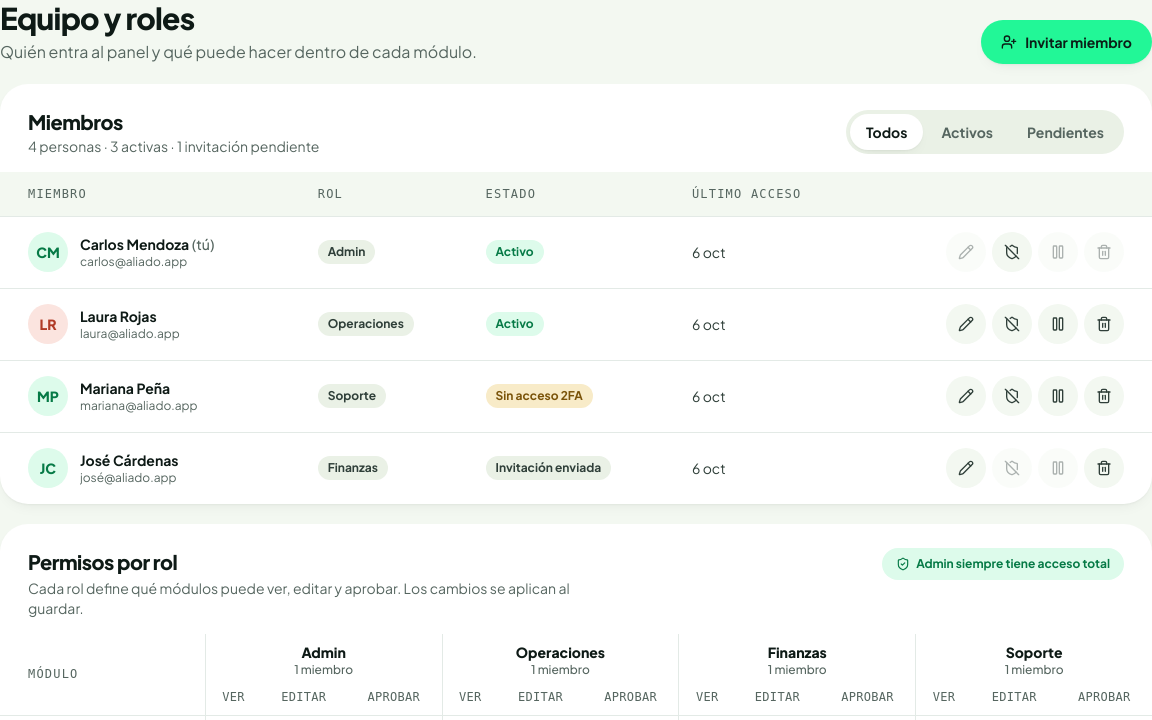
B15 · pantalla › invitar valida el correo y envia la invitacion; en desarrollo muestra el codigo
The width and height of the screenshot is (1152, 720).
Click the button "Invitar miembro" at (1067, 42), box [981,20,1151,64]
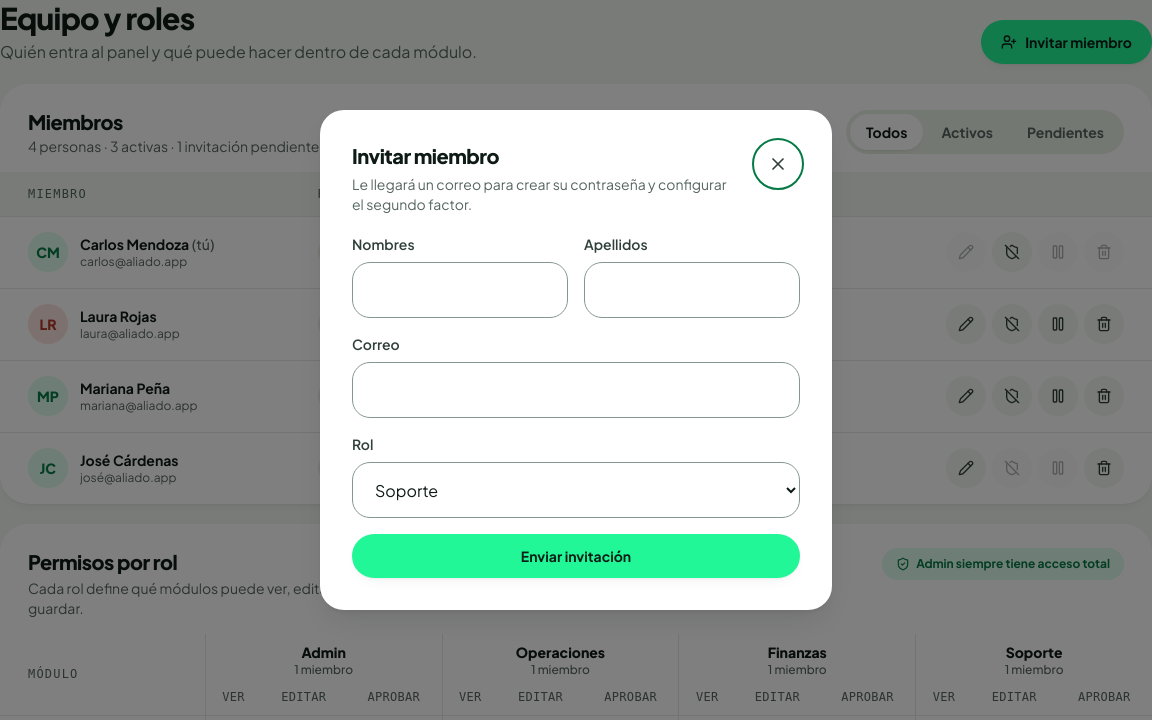
Type "Ana" into the field labelled "Nombres" at (460, 290), box [353,263,567,317]
Type "Pérez" into the field labelled "Apellidos" at (692, 290), box [585,263,799,317]
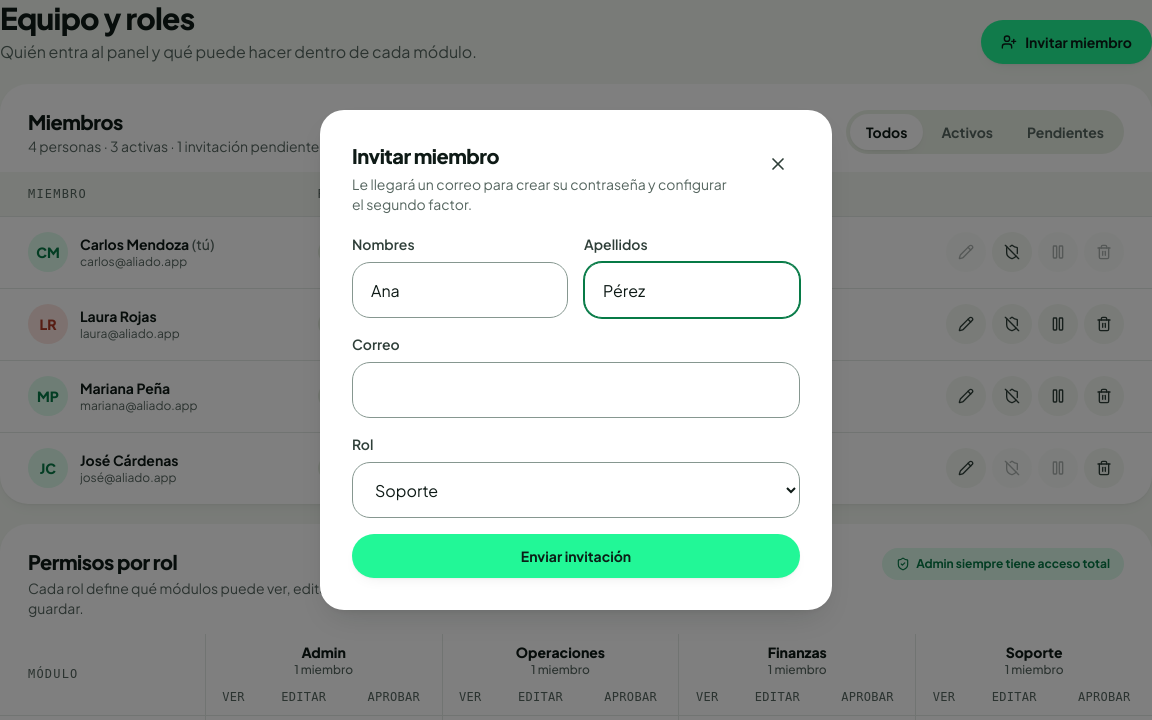
Type "no-es-correo" into the field labelled "Correo" at (576, 390), box [353,363,799,417]
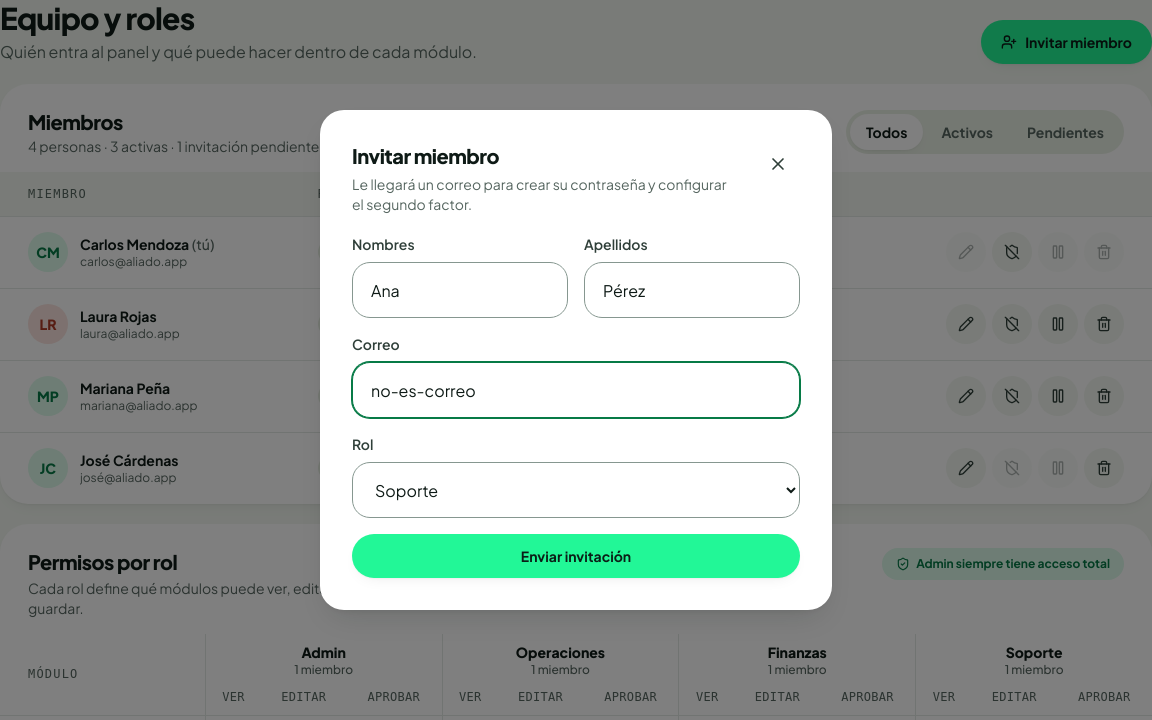
Click the button "Enviar invitación" at (576, 556), box [352,534,800,578]
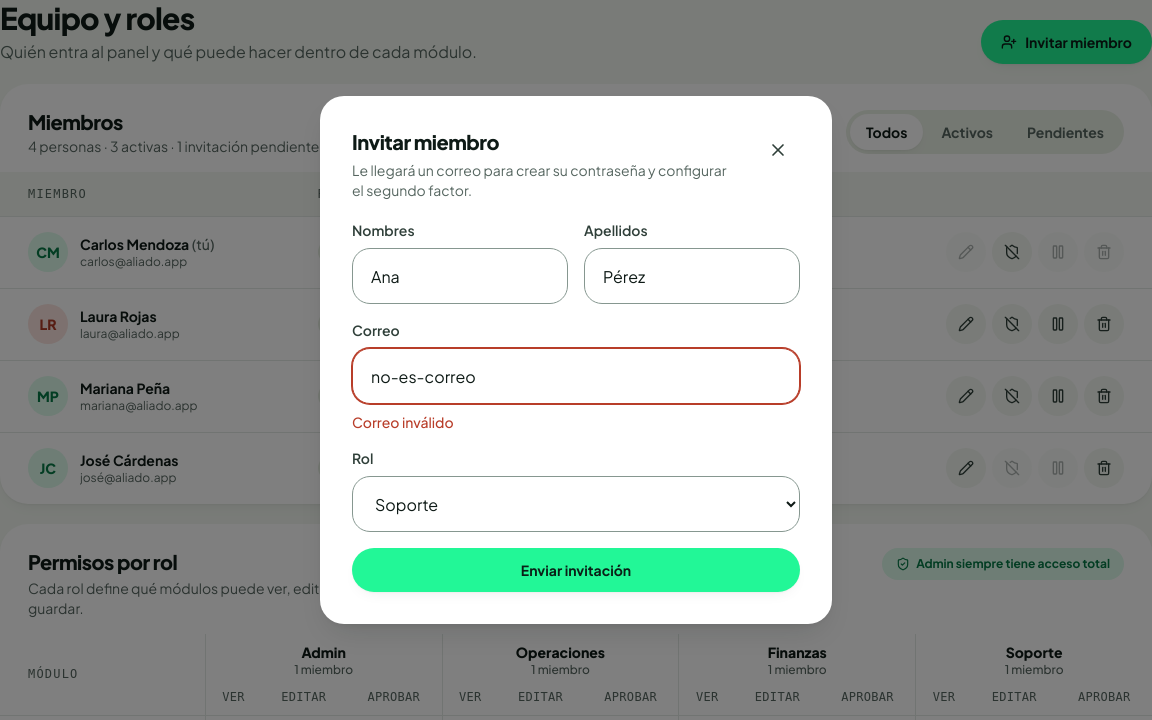
Expected: the text "Correo inválido" is shown, [352,413,454,431]
Replace the text in the field labelled "Correo" with "ana.perez@aliado.app" at (576, 376), box [353,349,799,403]
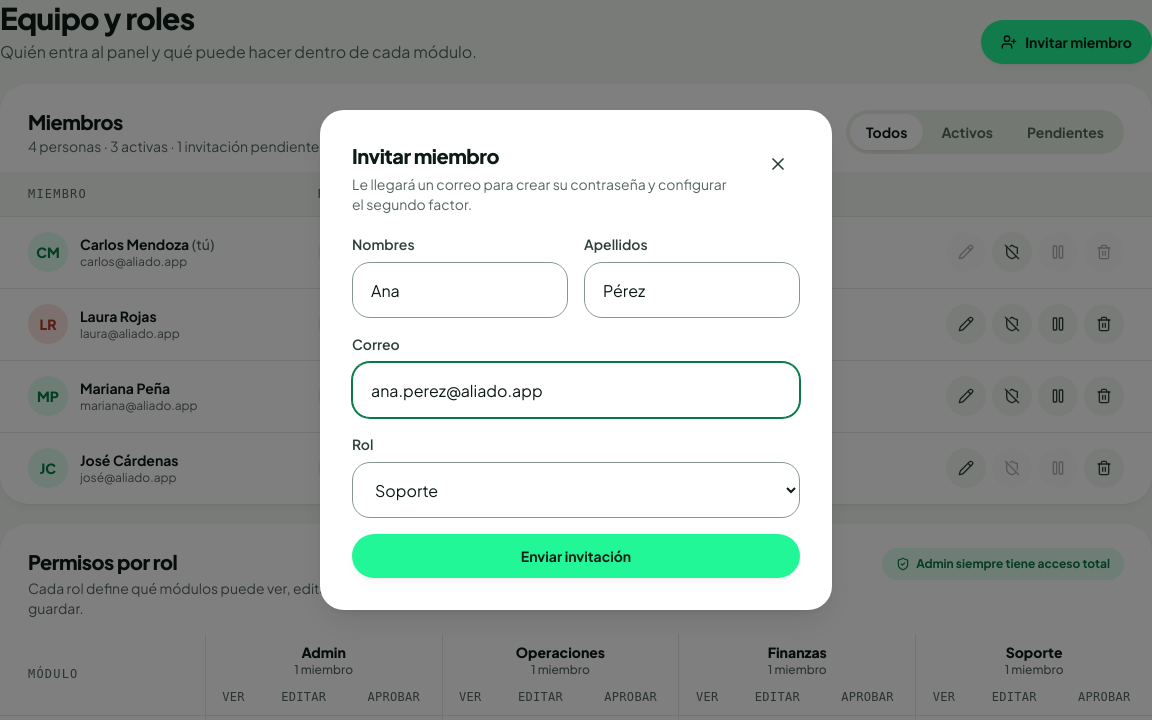
Click the button "Enviar invitación" at (576, 556), box [352,534,800,578]
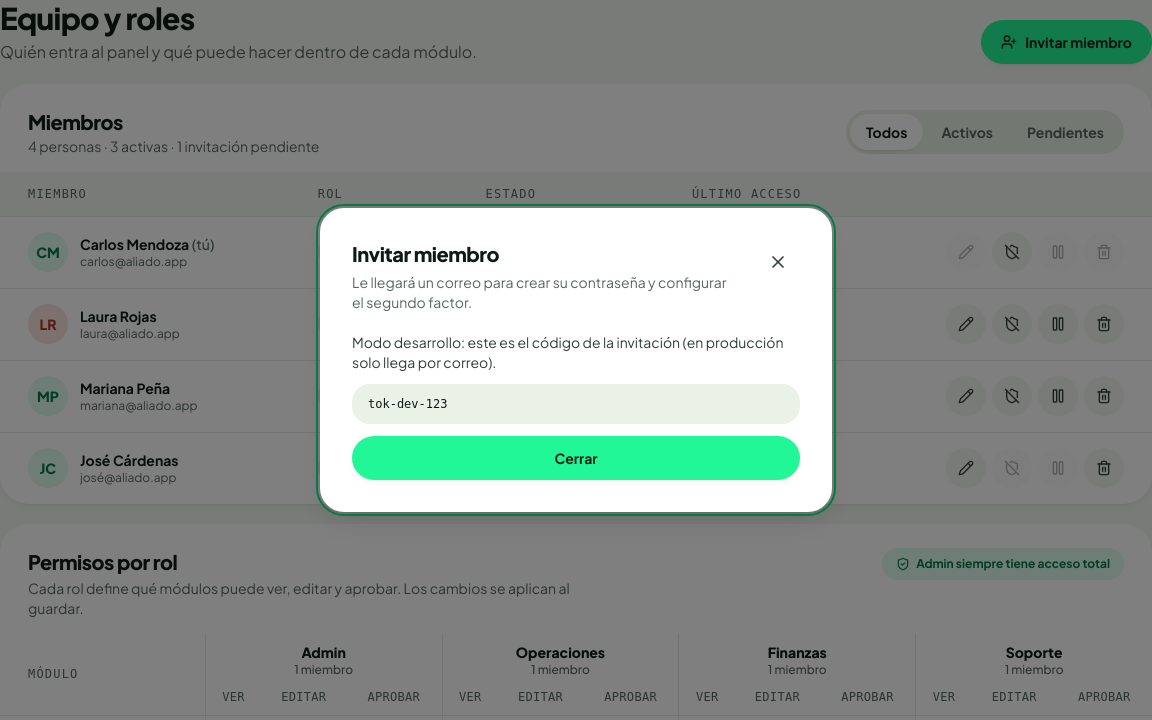
Expected: the text "tok-dev-123" is shown, [352,384,800,424]
